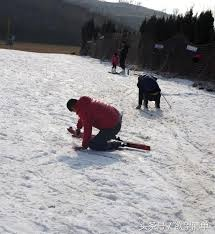falling: (132, 68, 165, 112)
